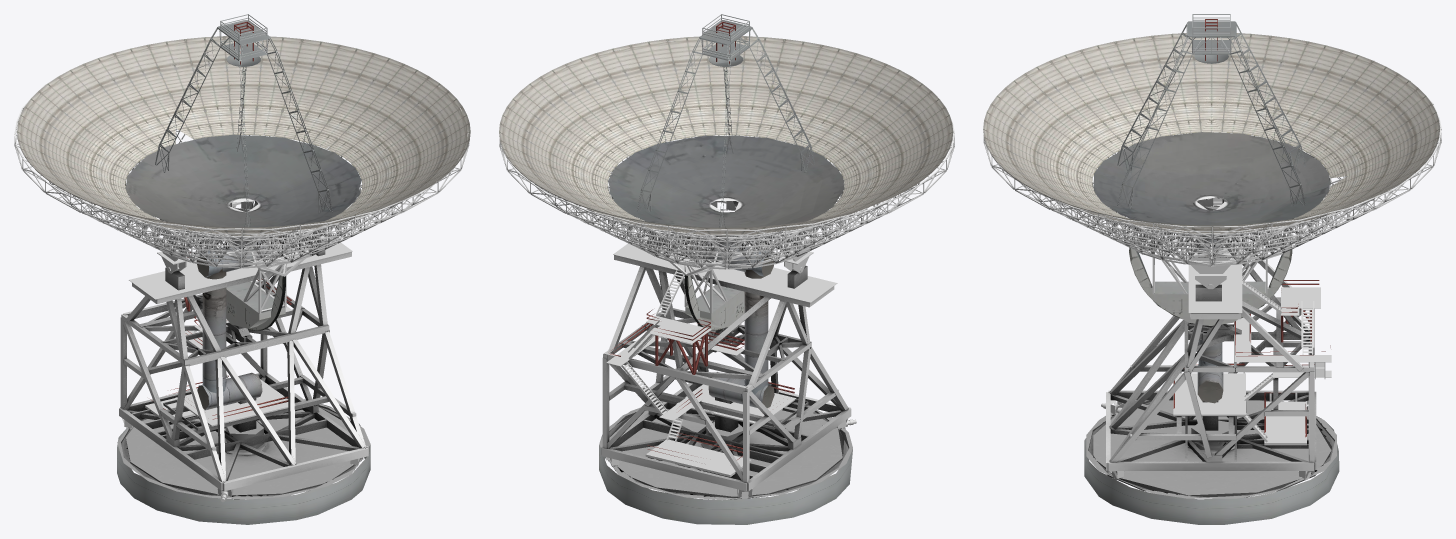
File: dsn34.glb
The picture shows the model from 3 angles, left to right: view 1: azimuth 30°, elevation 25°; view 2: azimuth 150°, elevation 25°; view 3: azimuth 270°, elevation 25°; orthographic projection.
Parts seen in each view (by area): view 1: dish, New Base, dish_center, base, truss_dish, quad, EW Symmetric.001; view 2: dish, New Base, dish_center, base, truss_dish, quad, EW Symmetric.001; view 3: dish, New Base, dish_center, base, truss_dish, quad, EW Symmetric.001.
Part boxes in pixels (x1,y1,x2,y2): dish: (17,36,470,235); New Base: (119,233,368,502); dish_center: (126,134,361,227); base: (117,396,370,524); truss_dish: (14,83,469,268); quad: (155,14,332,227); EW Symmetric.001: (153,202,336,330); dish: (499,36,953,236); New Base: (601,236,856,498); dish_center: (608,135,844,227); base: (599,396,852,524); truss_dish: (499,41,954,269); quad: (637,14,814,227); EW Symmetric.001: (631,201,815,330); dish: (983,33,1439,233); New Base: (1101,235,1331,479); dish_center: (1094,132,1330,225); base: (1084,400,1339,524); truss_dish: (983,60,1441,265); quad: (1117,14,1305,208); EW Symmetric.001: (1113,198,1309,325).
Size of the model in its own units: 34.02 by 36.79 by 33.97.
Materials: 6 (5 with a texture image).
